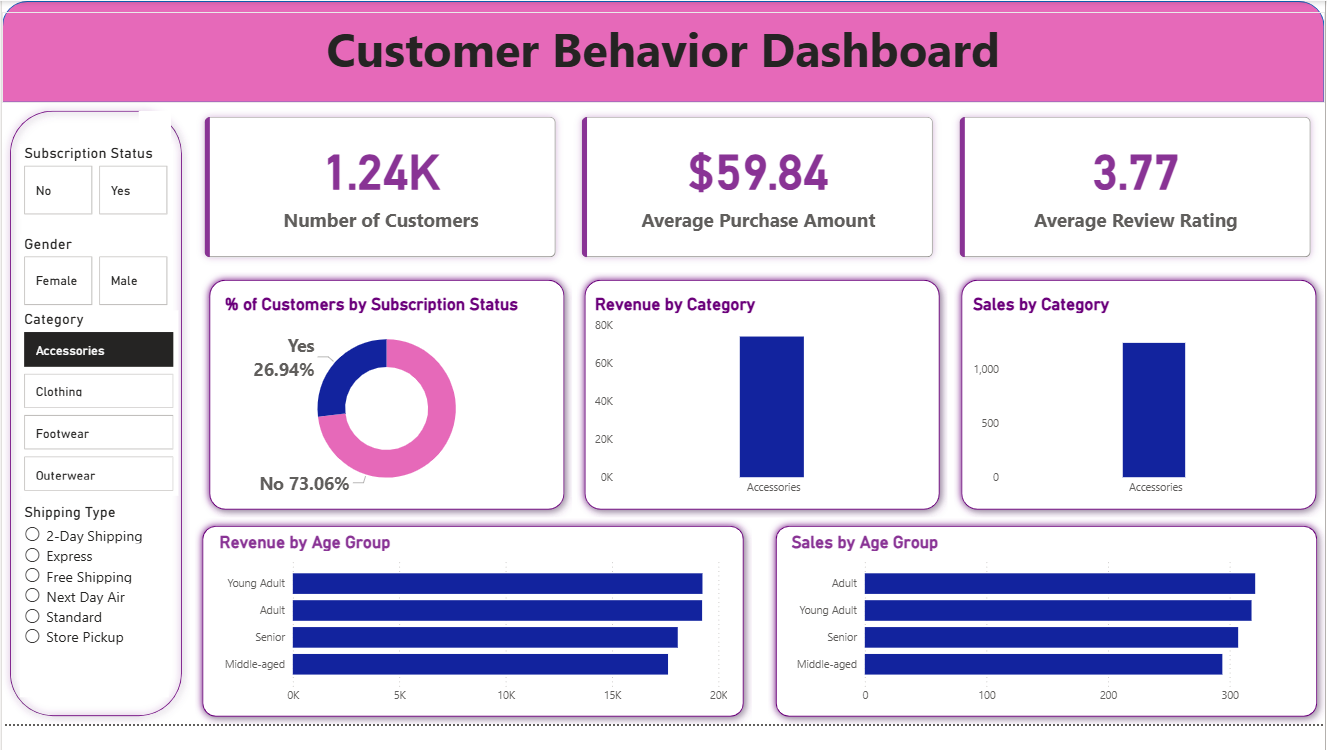

Layout of this report page (visuals, bound fields, positions):
{"tool":"powerbi","page":{"name":"Page 1","canvas":[1500,820],"ordinal":0},"visuals":[{"type":"cardVisual","fields":{"Data":["public customer.Number of Customers","public customer.Average Purchase Amount","public customer.Average Review Rating"]},"box":[212.9,115.3,1286.5,191.6],"z":2000},{"type":"shape","box":[218.3,585.6,631.7,234.2],"z":2500,"group":"g1"},{"type":"shape","box":[0,0,1499.4,115.3],"z":3000},{"type":"textbox","box":[0,12.4,1499.4,102.9],"z":4000},{"type":"shape","box":[225.4,307,420.5,278.6],"z":5000},{"type":"donutChart","title":"% of Customers by Subscription Status","fields":{"Category":["public customer.subscription_status"],"Y":["CountNonNull(public customer.customer_id)"]},"box":[248.4,331.8,376.2,237.8],"z":6000},{"type":"shape","box":[1078.9,307,420.5,278.6],"z":7000},{"type":"shape","box":[652.1,307,420.5,278.6],"z":8000},{"type":"clusteredColumnChart","title":"Revenue by Category","fields":{"Y":["Sum(public customer.purchase_amount)"],"Category":["public customer.category"]},"box":[667.2,331.8,385.1,237.8],"z":9000},{"type":"clusteredColumnChart","title":"Sales by Category","fields":{"Y":["CountNonNull(public customer.customer_id)"],"Category":["public customer.category"]},"box":[1096.6,331.8,385.1,237.8],"z":10000},{"type":"shape","box":[0,115.3,212.9,704.5],"z":11000},{"type":"advancedSlicerVisual","fields":{"Values":["public customer.subscription_status"]},"box":[19.5,161.5,173.9,85.2],"z":12000},{"type":"advancedSlicerVisual","fields":{"Values":["public customer.gender"]},"box":[19.5,264.4,173.9,85.2],"z":13000},{"type":"advancedSlicerVisual","fields":{"Values":["public customer.category"]},"box":[20.3,350.8,179.3,210.5],"z":14000},{"type":"listSlicer","fields":{"Values":["public customer.shipping_type"]},"box":[19.5,569.6,168.6,220],"z":15000},{"type":"shape","box":[867.7,585.6,631.7,234.2],"z":16000},{"type":"clusteredBarChart","title":"Sales by Age Group","fields":{"Y":["CountNonNull(public customer.customer_id)"],"Category":["public customer.age_group"]},"box":[890.8,601.5,585.6,204.1],"z":17000},{"type":"clusteredBarChart","title":"Revenue by Age Group","fields":{"Y":["Sum(public customer.purchase_amount)"],"Category":["public customer.age_group"]},"box":[241.4,601.6,585.6,204.1],"z":17500,"group":"g1"},{"type":"group","id":"g1","title":"Group 1","box":[218.3,585.6,631.7,234.2],"z":17501}]}

Visuals, with their boxes on the page's 1500x820 design canvas (x1, y1, x2, y2). These are canvas units, not pixel positions in the 1327x750 screenshot, which may show the page scaled, cropped or inside an application window:
cardVisual - public customer.Number of Customers x public customer.Average Purchase Amount: select_region(213, 115, 1499, 307)
shape: select_region(218, 586, 850, 820)
shape: select_region(0, 0, 1499, 115)
textbox: select_region(0, 12, 1499, 115)
shape: select_region(225, 307, 646, 586)
"% of Customers by Subscription Status" donutChart: select_region(248, 332, 625, 570)
shape: select_region(1079, 307, 1499, 586)
shape: select_region(652, 307, 1073, 586)
"Revenue by Category" clusteredColumnChart: select_region(667, 332, 1052, 570)
"Sales by Category" clusteredColumnChart: select_region(1097, 332, 1482, 570)
shape: select_region(0, 115, 213, 820)
advancedSlicerVisual - public customer.subscription_status: select_region(20, 162, 193, 247)
advancedSlicerVisual - public customer.gender: select_region(20, 264, 193, 350)
advancedSlicerVisual - public customer.category: select_region(20, 351, 200, 561)
listSlicer - public customer.shipping_type: select_region(20, 570, 188, 790)
shape: select_region(868, 586, 1499, 820)
"Sales by Age Group" clusteredBarChart: select_region(891, 602, 1476, 806)
"Revenue by Age Group" clusteredBarChart: select_region(241, 602, 827, 806)
"Group 1" group: select_region(218, 586, 850, 820)
